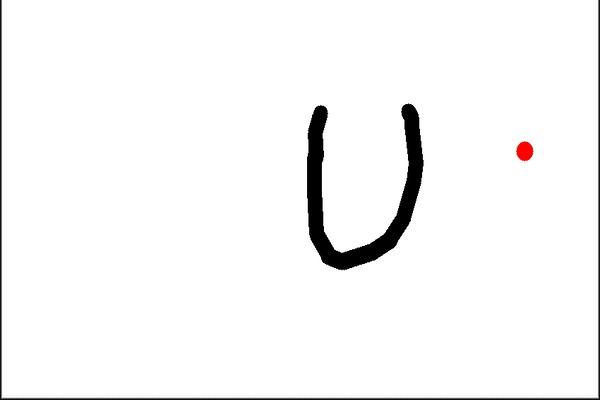U: (299, 93, 424, 271)
